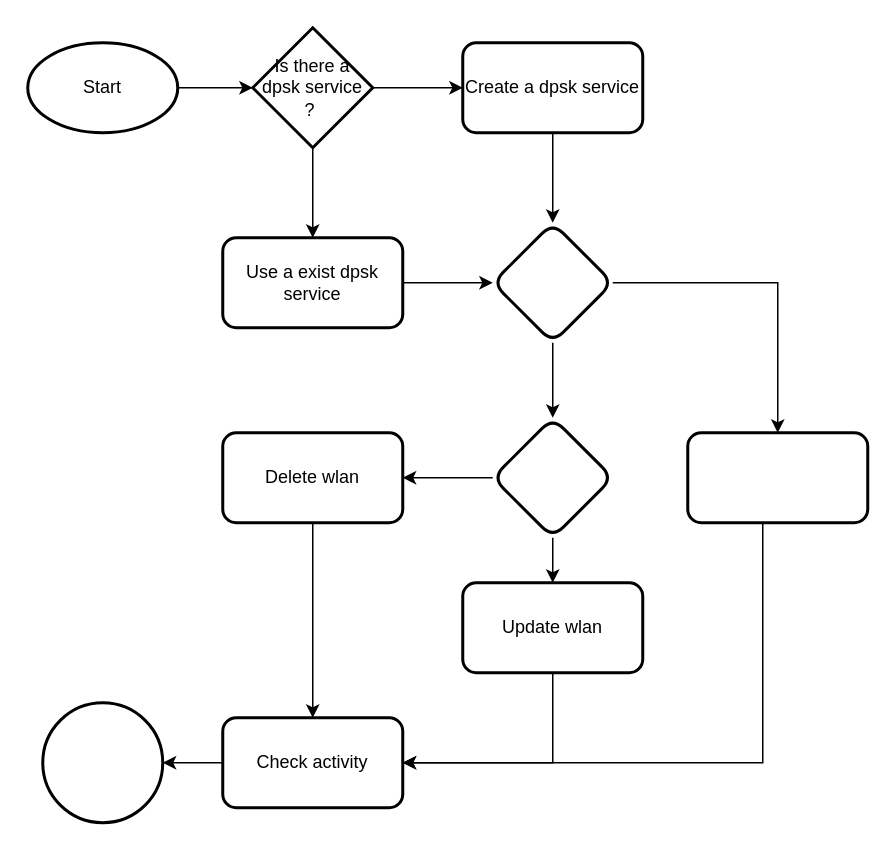
Image size: 894x849. Some labels were removed from this diagram. The centre of each missing label's shape, as x and y in pixels:
"Create a dpsk wlan" goes at pixel 777 477.
"End" goes at pixel 102 762.
"Is there a dpsk wlan ?" goes at pixel 552 282.
"Update wlan or delete wlan" goes at pixel 552 477.
